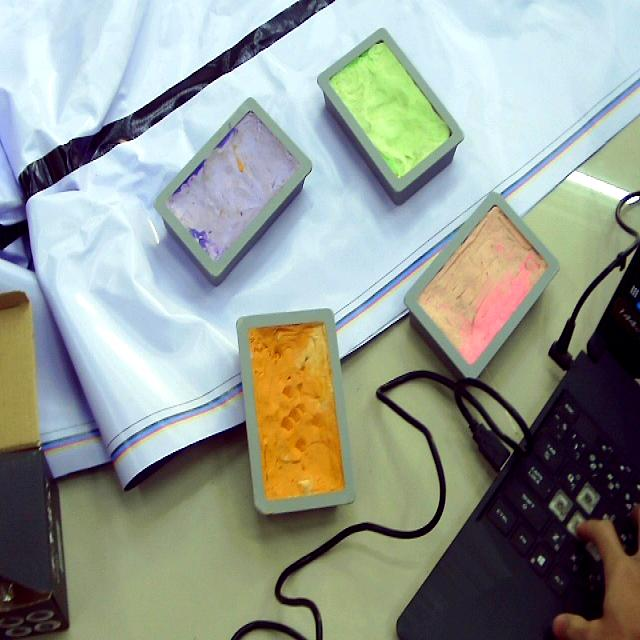block: (401, 192, 562, 383), (152, 97, 310, 287), (311, 27, 461, 206), (235, 308, 354, 516)
